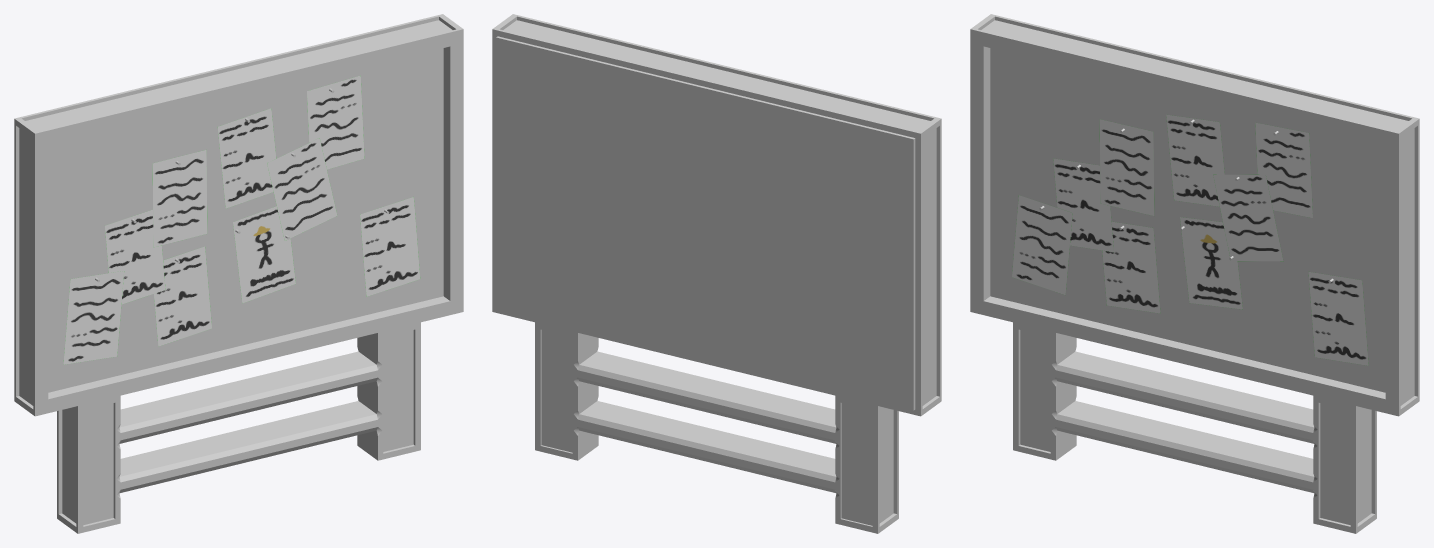
The model's file is Notice Board.fbx.
3 renders of one model, left to right at view 1: azimuth 30°, elevation 25°; view 2: azimuth 150°, elevation 25°; view 3: azimuth 330°, elevation 25°, orthographic.
Parts seen in each view (by area): view 1: Body, Front, Paper 1, Paper 9, Paper 4, Paper 6, Paper 7, Paper 8, Paper 3, Paper 5, Paper 2; view 2: Body; view 3: Body, Front, Paper 6, Paper 9, Paper 1, Paper 4, Paper 7, Paper 8, Paper 3, Paper 5, Paper 2.
Boxes of the visible parts, x1,y1,x2,y2 form: Body: (14,14,463,533); Front: (48,48,443,392); Paper 1: (63,271,124,364); Paper 9: (360,197,420,296); Paper 4: (152,149,207,247); Paper 6: (267,138,337,240); Paper 7: (217,108,276,208); Paper 8: (233,206,295,303); Paper 3: (154,246,211,346); Paper 5: (307,75,364,169); Paper 2: (105,209,165,304); Body: (492,14,941,533); Body: (970,14,1419,533); Front: (990,48,1385,392); Paper 6: (1213,174,1283,261); Paper 9: (1308,271,1368,365); Paper 1: (1012,195,1072,295); Paper 4: (1099,119,1154,215); Paper 7: (1166,114,1224,206); Paper 8: (1180,217,1242,309); Paper 3: (1102,221,1160,313); Paper 5: (1255,122,1312,217); Paper 2: (1053,158,1113,252).
Bounding box in the file's own units: 48.32 × 44.24 × 4.37.
3 materials, 3 textured.
